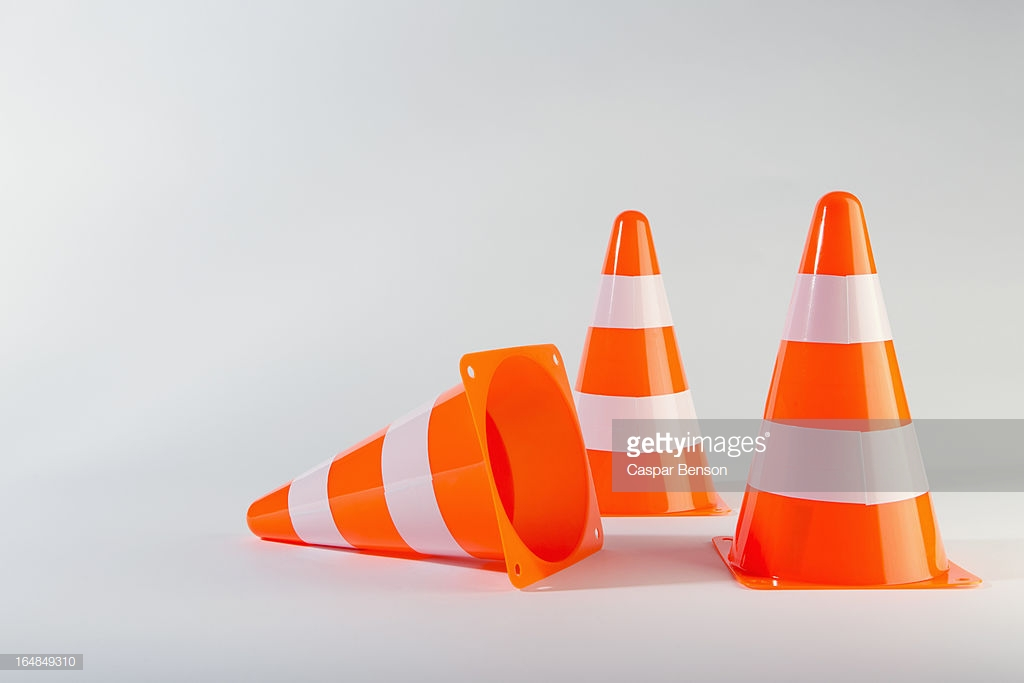orangeC: (202, 325, 609, 612)
